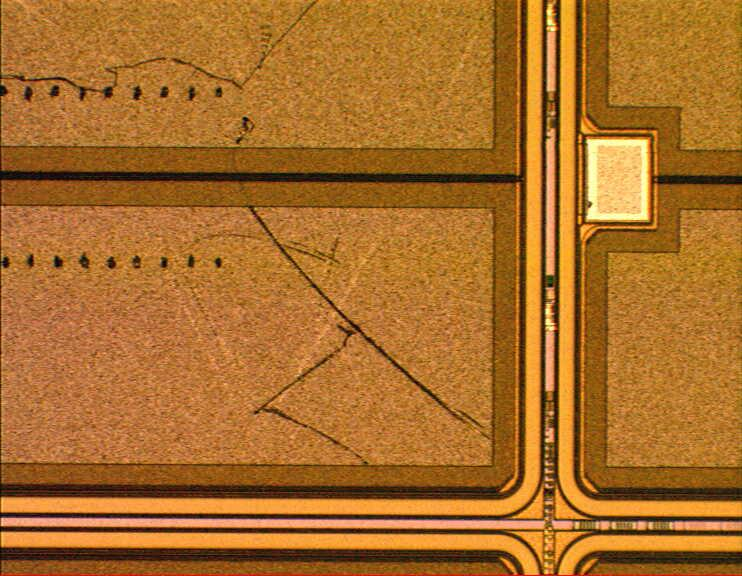SCRATCH: (1, 1, 512, 477)
